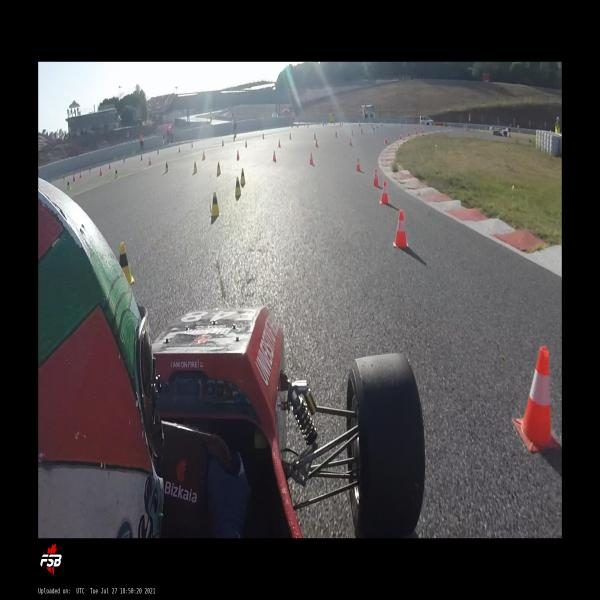orange_cone: (512, 346, 561, 453), (393, 210, 408, 248), (380, 181, 389, 205), (372, 169, 380, 187), (309, 152, 314, 166), (272, 149, 277, 162), (356, 157, 360, 172), (202, 150, 206, 161), (148, 156, 152, 166), (236, 150, 240, 160), (315, 139, 319, 147), (99, 168, 103, 176), (278, 138, 281, 148), (349, 137, 352, 146), (73, 174, 76, 182), (384, 137, 387, 144), (178, 146, 181, 153), (222, 138, 224, 147), (245, 140, 247, 148), (109, 163, 111, 170), (80, 172, 82, 179), (140, 154, 142, 161), (400, 133, 402, 139), (407, 131, 409, 136)
yellow_cone: (119, 241, 135, 284), (210, 191, 222, 218), (234, 175, 242, 196), (241, 168, 246, 185), (193, 160, 198, 174), (217, 162, 221, 176), (165, 162, 169, 174), (115, 168, 119, 179), (67, 180, 71, 190), (62, 174, 66, 182), (262, 133, 265, 139), (123, 156, 125, 164), (289, 132, 291, 140), (191, 141, 193, 148), (335, 131, 337, 138), (89, 167, 91, 173), (314, 133, 316, 139), (351, 130, 353, 136), (373, 127, 375, 133), (157, 150, 159, 155), (233, 136, 235, 141), (376, 126, 378, 131), (361, 128, 362, 134)
